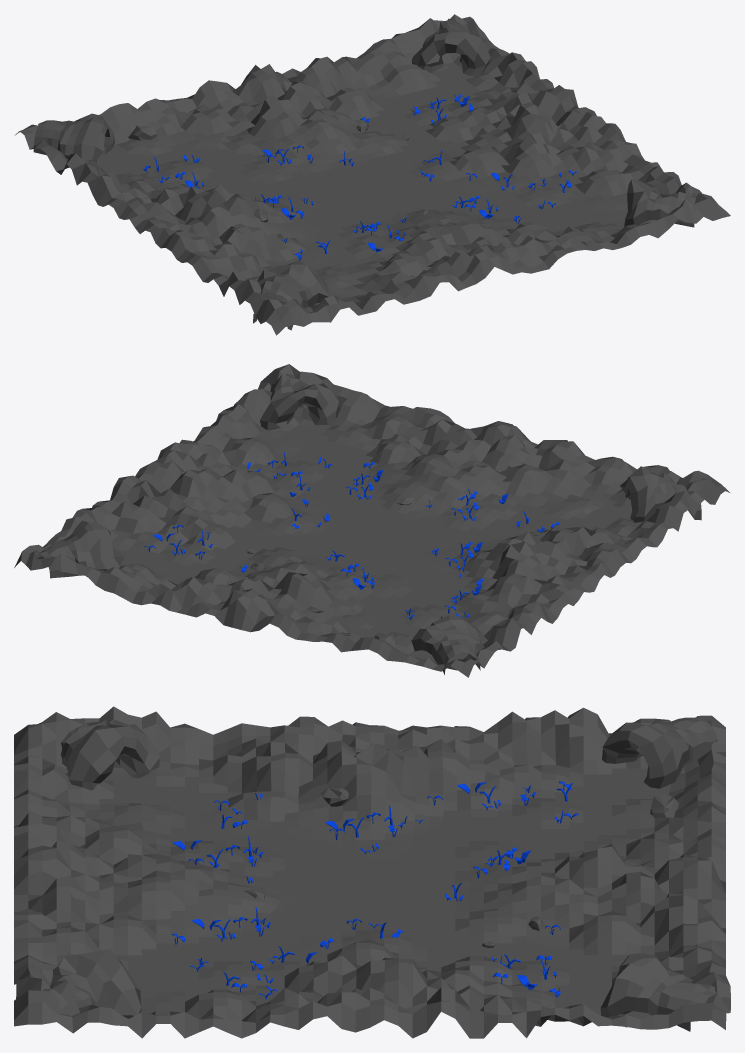
The model's file is Terrain M1.FBX.
The picture shows the model from 3 angles, top to bottom: view 1: azimuth 30°, elevation 25°; view 2: azimuth 150°, elevation 25°; view 3: azimuth 270°, elevation 25°; orthographic projection. The views are drawn at different scales.
Parts seen in each view (by area): view 1: Plane001, Torus001, Torus004, Torus002, Torus003; view 2: Plane001, Torus003, Torus004, Torus001, Torus002; view 3: Plane001, Torus001, Torus002, Torus004, Torus003, Sphere002.
Part boxes in pixels (box(x1,y1,x2,y2)): Plane001: box(14, 14, 730, 335); Torus001: box(33, 113, 114, 163); Torus004: box(412, 18, 490, 75); Torus002: box(253, 261, 330, 330); Torus003: box(624, 179, 695, 227); Plane001: box(14, 364, 729, 677); Torus003: box(260, 374, 338, 430); Torus004: box(36, 520, 124, 578); Torus001: box(411, 615, 487, 674); Torus002: box(620, 466, 701, 522); Plane001: box(14, 706, 730, 1038); Torus001: box(602, 717, 717, 788); Torus002: box(60, 720, 159, 790); Torus004: box(600, 953, 721, 1031); Torus003: box(42, 949, 141, 1018); Sphere002: box(650, 795, 678, 817).
Size of the model in its own units: 150 by 15.16 by 151.
